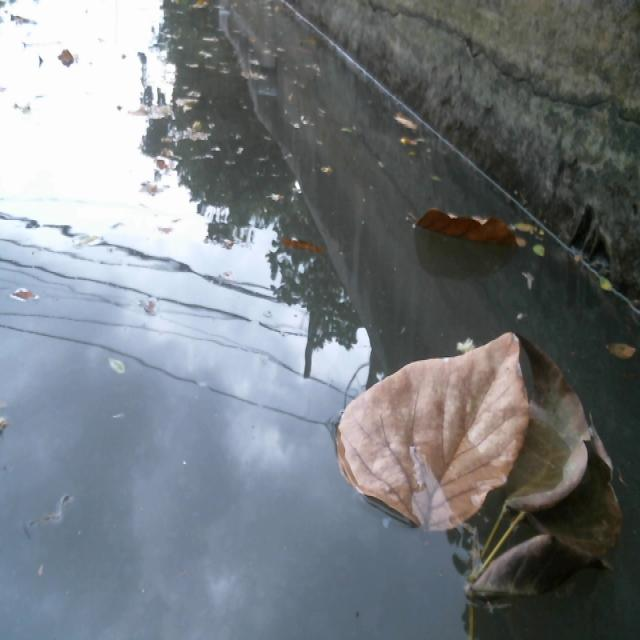Big-leaf: (463, 358, 619, 612), (327, 339, 528, 530), (415, 201, 525, 252)
Small-leaf: (275, 219, 336, 266), (388, 93, 435, 150), (600, 322, 640, 367), (591, 268, 619, 304), (528, 236, 556, 266)
